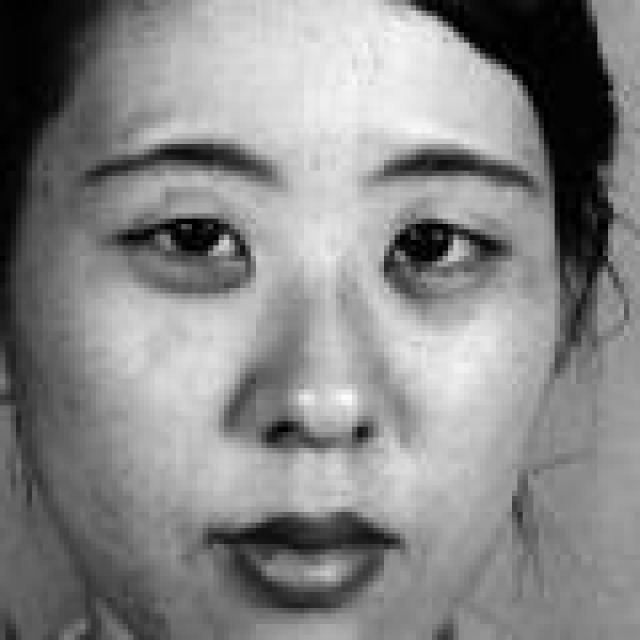disgust: (47, 48, 577, 640)
